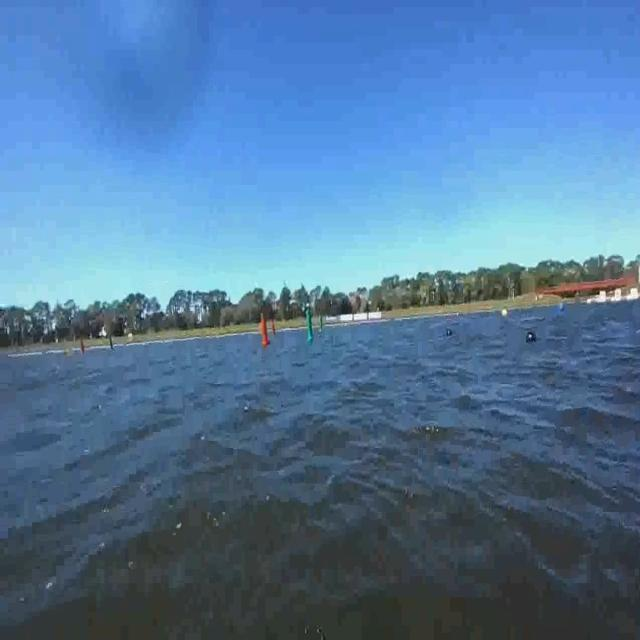black-buoy: (524, 328, 538, 344), (447, 328, 453, 339)
blue-buoy: (559, 303, 566, 314)
green-column-buoy: (304, 311, 312, 344), (107, 331, 116, 354), (320, 315, 324, 330)
red-column-buoy: (262, 320, 272, 348), (79, 337, 86, 356), (272, 317, 278, 334)
yellow-buoy: (501, 306, 508, 317)
